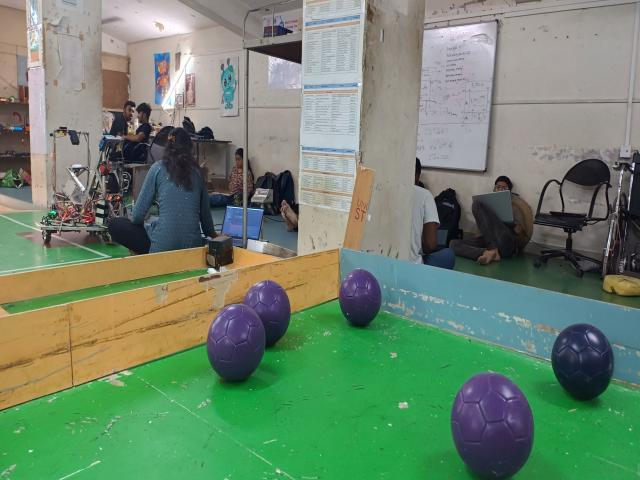jambhalya: (451, 373, 534, 478), (206, 303, 265, 382), (244, 280, 291, 347), (339, 268, 381, 327)
kaalyya: (551, 323, 615, 400)
